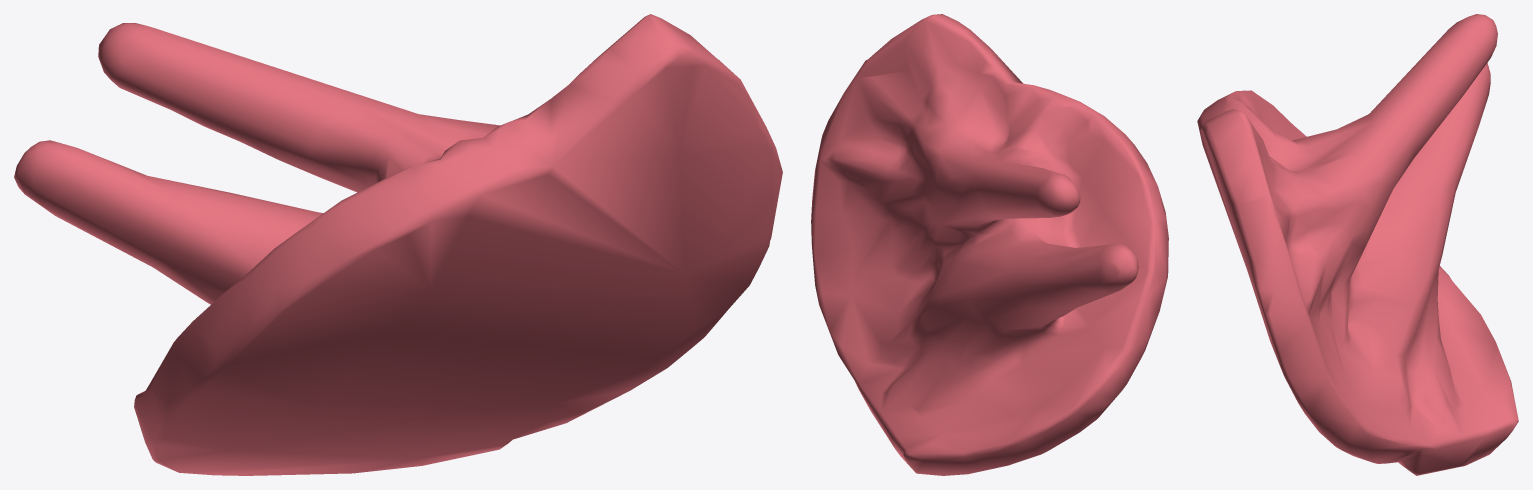
The picture shows the model from 3 angles, left to right: view 1: azimuth 30°, elevation 25°; view 2: azimuth 150°, elevation 25°; view 3: azimuth 270°, elevation 25°; orthographic projection. The views are drawn at different scales.
Parts seen in each view (by area): view 1: ZA_4594f829c3727756; view 2: ZA_4594f829c3727756; view 3: ZA_4594f829c3727756.
Part boxes in pixels (bbox=[...]): ZA_4594f829c3727756: bbox=[14, 14, 782, 475]; ZA_4594f829c3727756: bbox=[811, 14, 1168, 475]; ZA_4594f829c3727756: bbox=[1197, 14, 1518, 475].
Size of the model in its own units: 0.0364 by 0.0303 by 0.0223.
